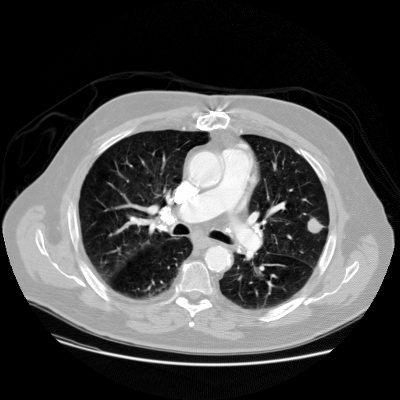nodule: (306, 218, 322, 234)
